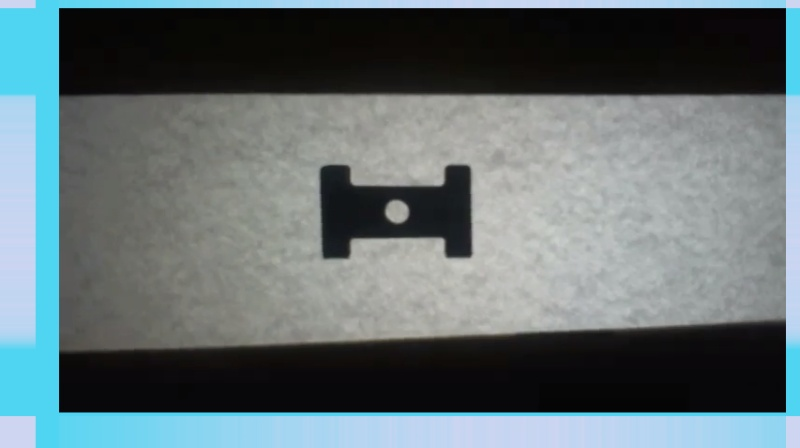O002: (314, 160, 476, 261)
